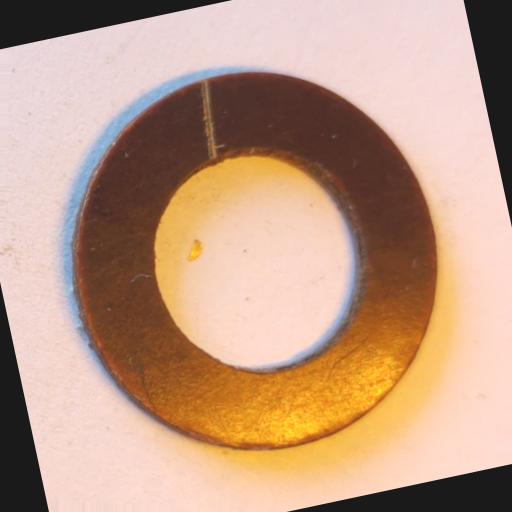defect: (192, 76, 227, 161)
